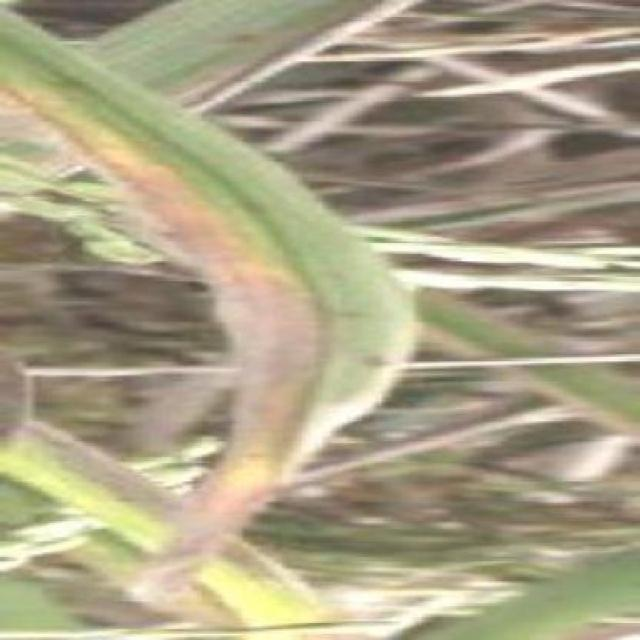Brown_Spot: (192, 136, 406, 478)
